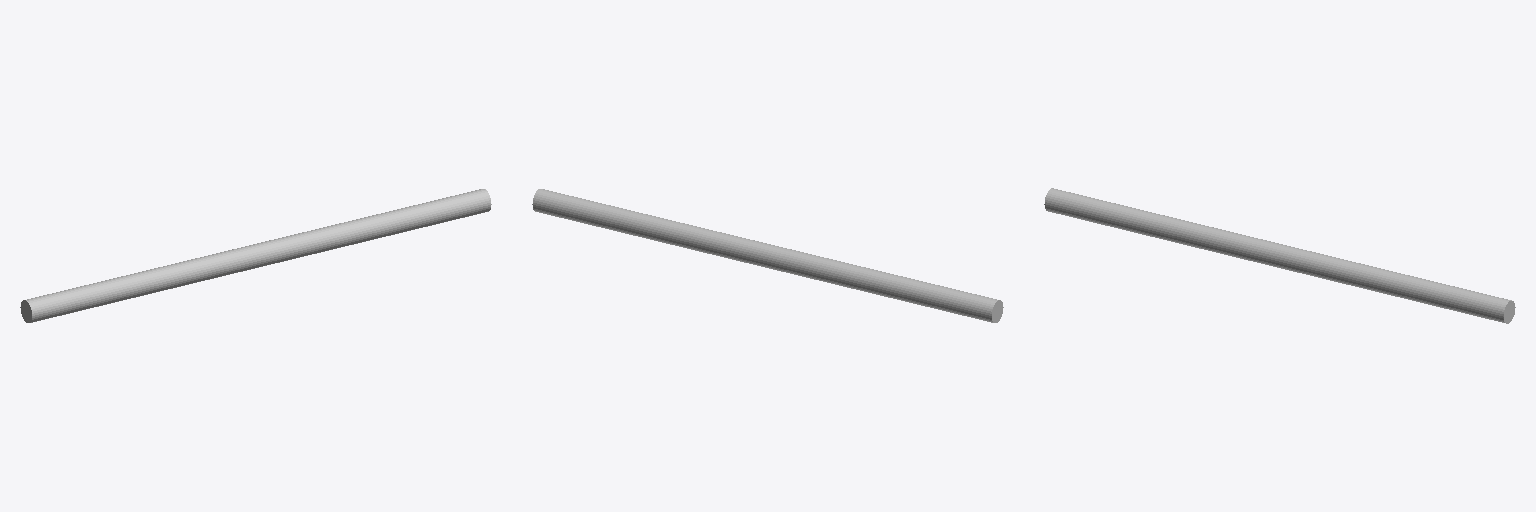
URDF robot description (rod):
<?xml version="1.0" encoding="utf-8"?>
<robot name="rod">
  <link name="rod_Link">
    <inertial>
      <origin xyz="0 0 0" rpy="0 0 0"/>
      <mass value="0.8"/>
      <inertia ixx="0.001" iyy="0.001" izz="0.0005" ixy="0" ixz="0" iyz="0"/>
    </inertial>
    <visual>
      <origin xyz="0 0 0" rpy="0 -1.57 0"/>
      <geometry><cylinder length="0.8" radius="0.018"/></geometry>
      <material name="gray"><color rgba="0.8 0.8 0.8 1"/></material>
    </visual>
    <collision>
      <origin xyz="0 0 0" rpy="0 -1.57 0"/>
      <geometry><cylinder length="0.8" radius="0.018"/></geometry>
    </collision>
  </link>
</robot>

--- Render facts (derived) ---
3 views of the same robot in one strip: view 1: azimuth 30°, elevation 25°; view 2: azimuth 150°, elevation 25°; view 3: azimuth 330°, elevation 25° (orthographic).
Robot: rod — 1 links, 0 joints (none); root link rod_Link; default pose: every joint at zero.
Visible links, largest first — view 1: rod_Link; view 2: rod_Link; view 3: rod_Link.
Link boxes in pixels (x1,y1,x2,y2): rod_Link: (20, 189, 491, 322); rod_Link: (532, 189, 1003, 322); rod_Link: (1044, 188, 1515, 323).
Size in the robot's own frame: 0.8 by 0.036 by 0.0366 metres.
Geometry: primitives only (box / cylinder / sphere), no mesh files.
